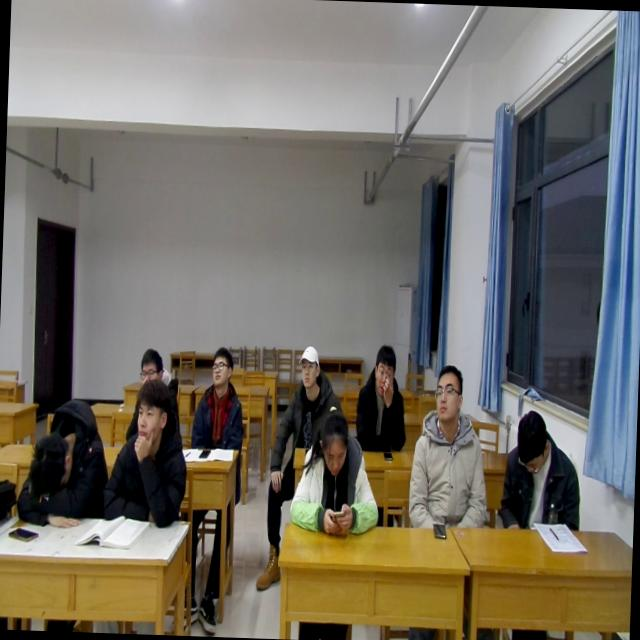bow: (13, 394, 111, 530)
down: (510, 405, 556, 479), (314, 404, 354, 480)
lookup: (132, 372, 172, 455), (432, 358, 465, 427), (368, 337, 399, 397), (294, 340, 324, 392), (206, 346, 237, 390), (135, 342, 160, 379)
sit: (406, 358, 494, 533), (97, 376, 192, 528), (288, 404, 382, 538), (497, 404, 586, 535), (271, 342, 348, 450), (352, 339, 412, 456), (186, 343, 248, 451), (130, 344, 180, 413)
